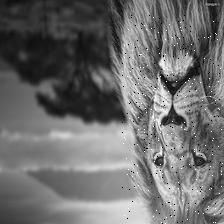Lion: (122, 15, 223, 224)
